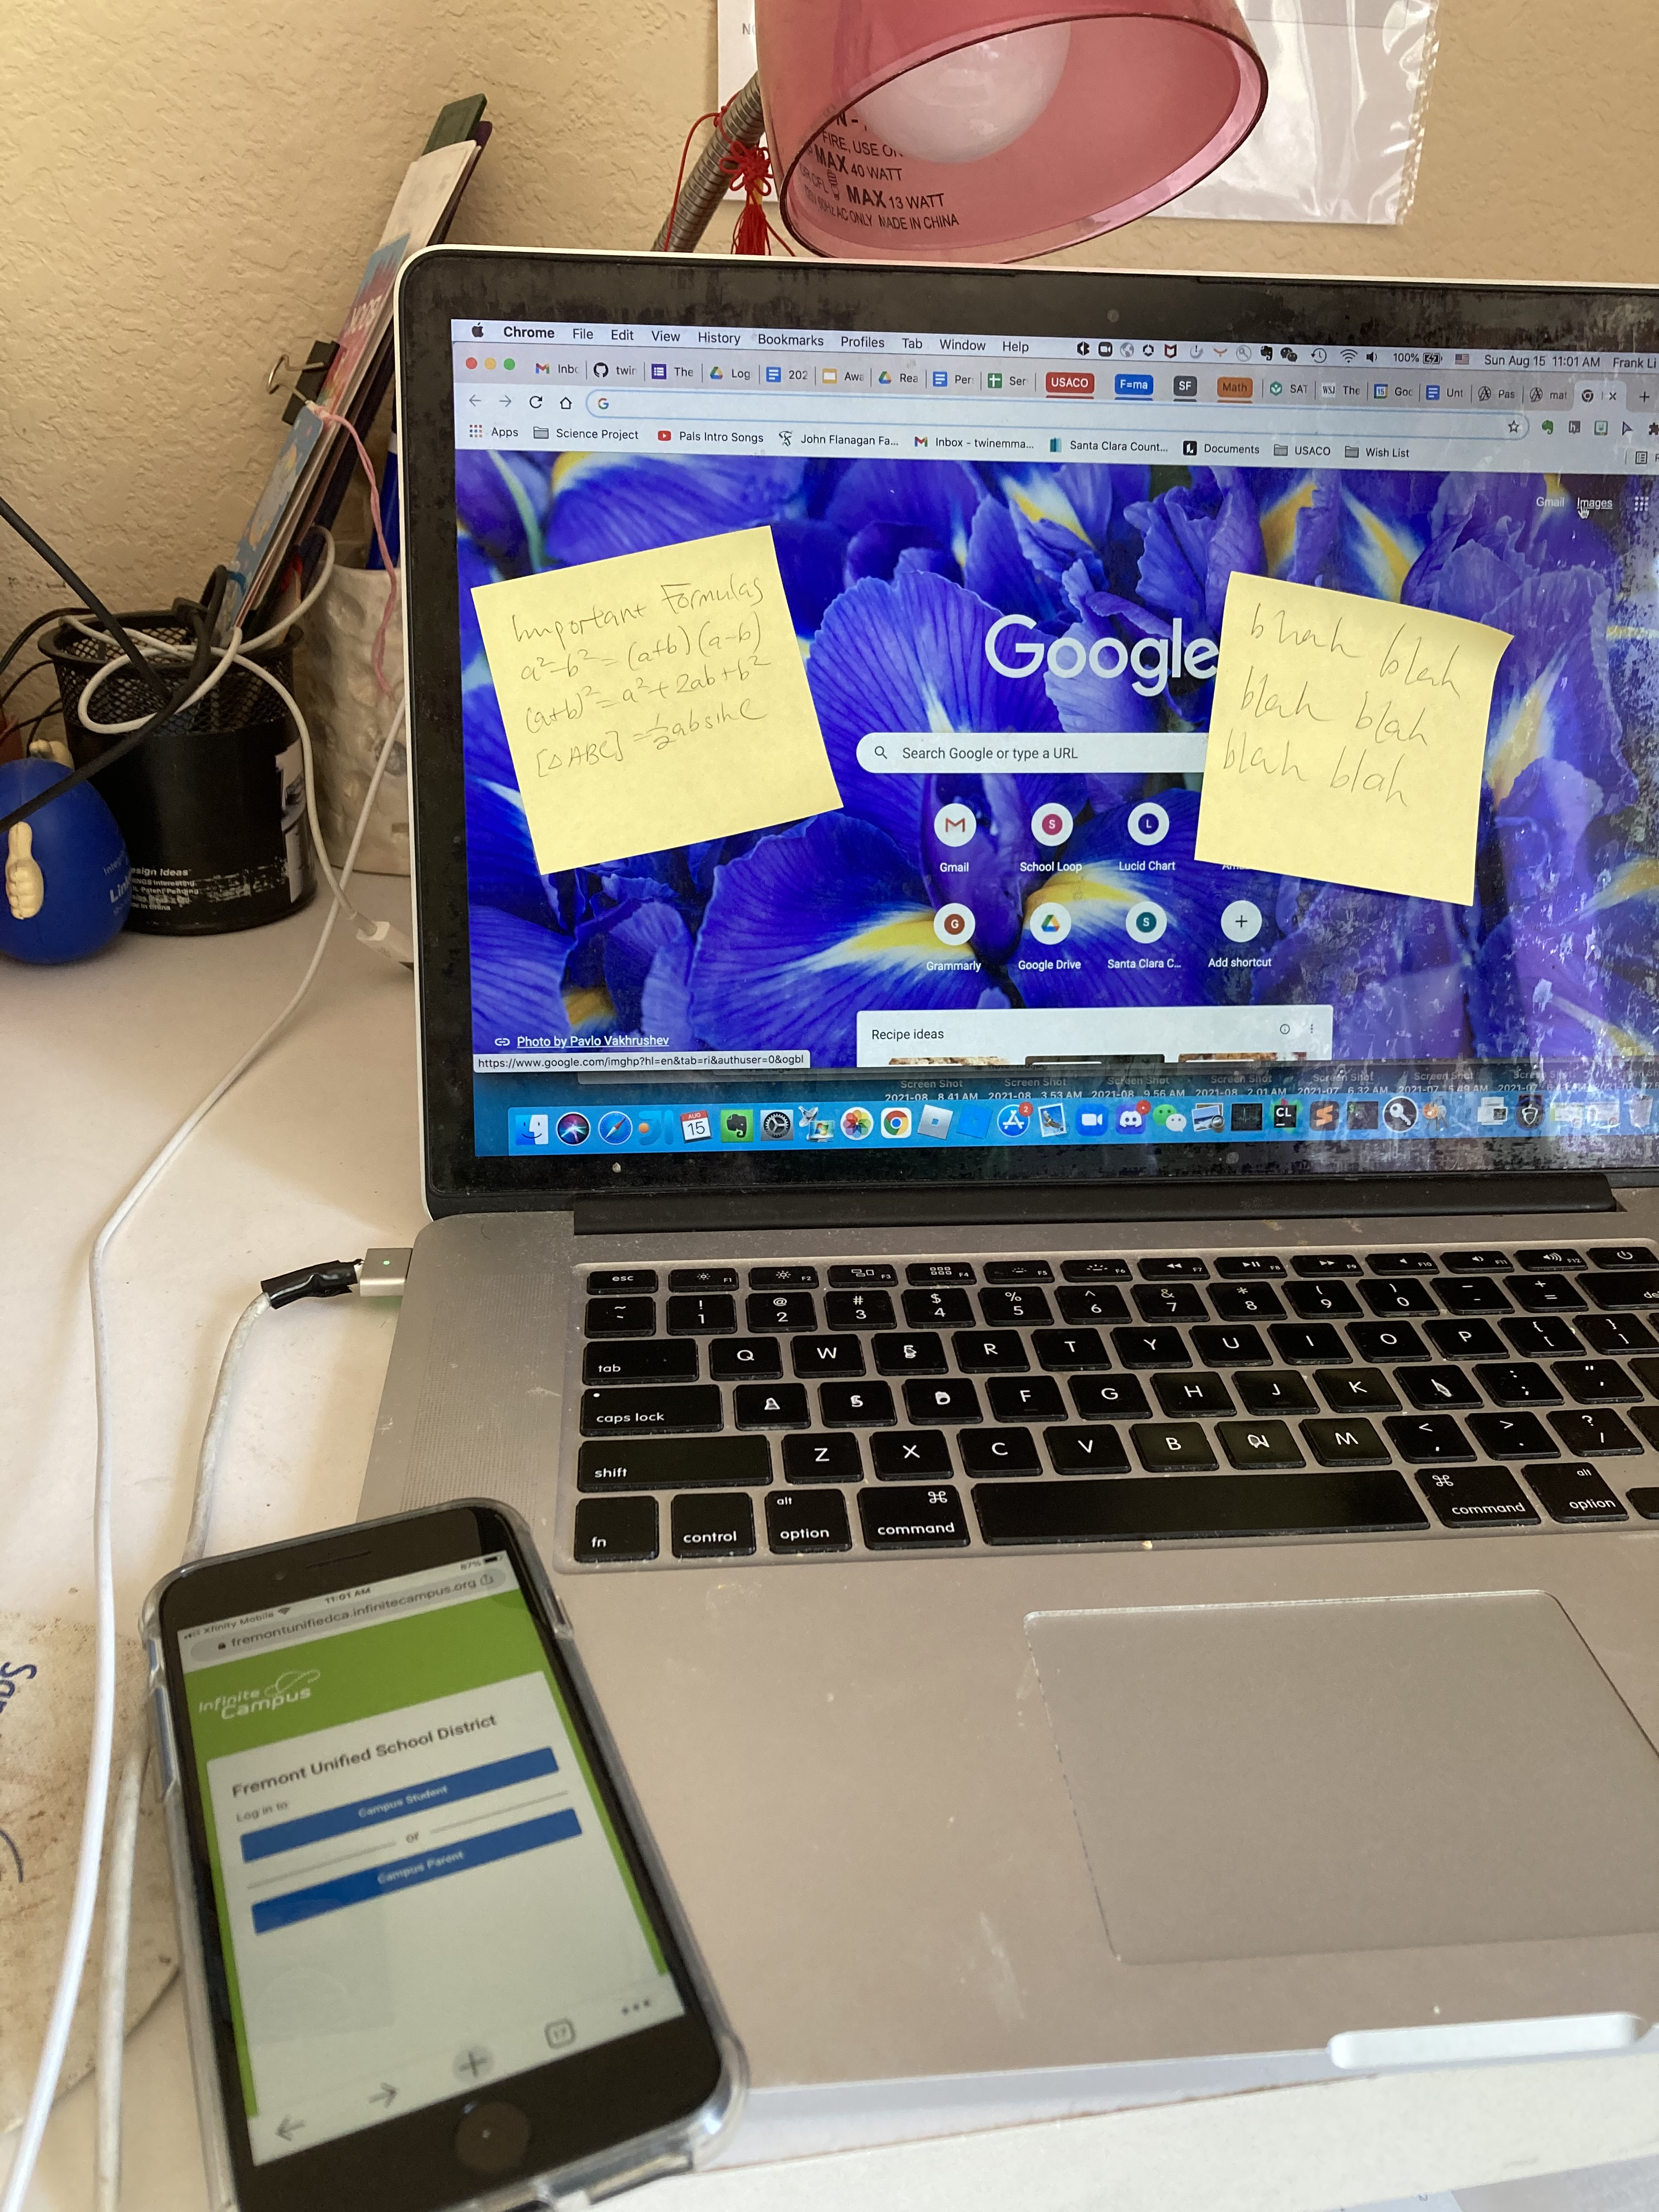Cell Phone: (150, 1503, 753, 2212)
Note: (471, 531, 850, 864), (1208, 571, 1506, 920)
